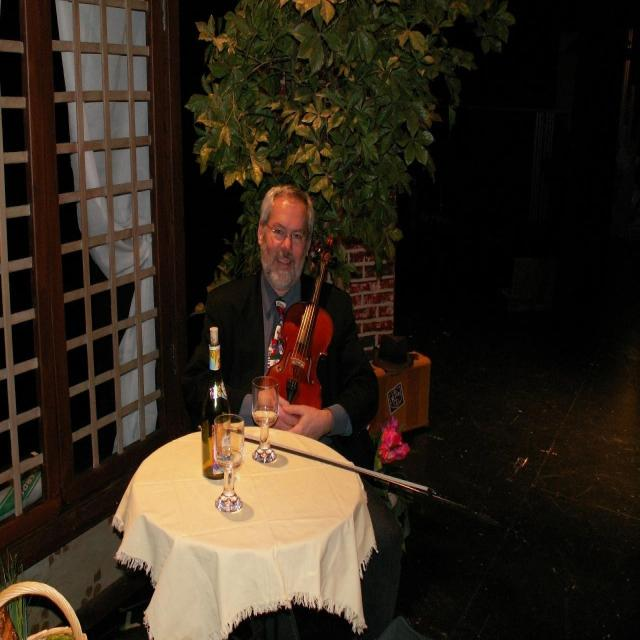violin: (256, 233, 337, 428)
